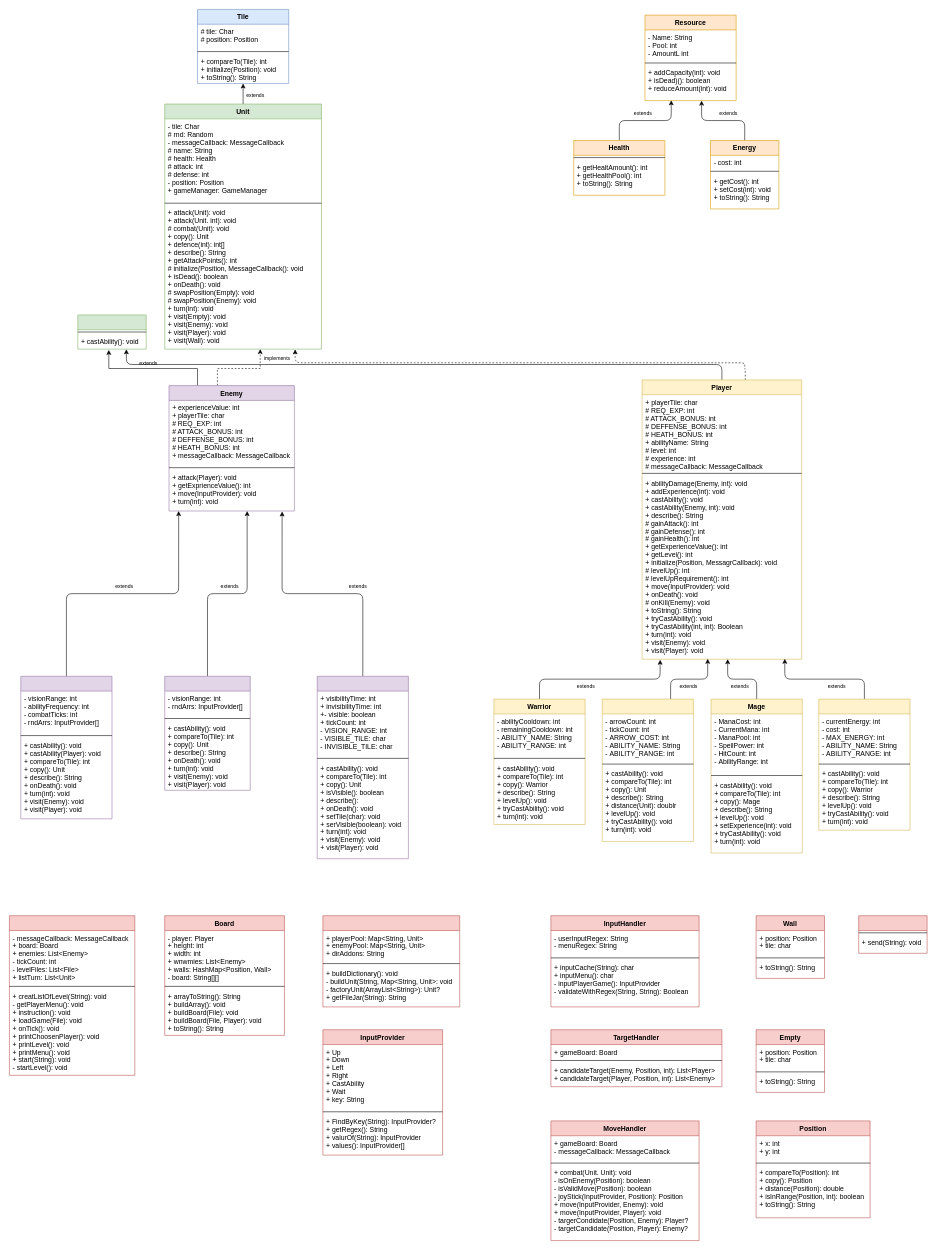
Image size: 937x1250. Some labels were removed from this diagram. The box of each missing label's shape, as (x1, y1, x2, y2) in pixels:
Boss: (20, 676, 112, 819)
DatabaseUnits: (322, 915, 460, 1007)
GameManager: (9, 915, 135, 1075)
HeroicUnit: (77, 314, 146, 349)
Hunter: (602, 699, 693, 842)
MessageCallback: (858, 915, 927, 953)
Monster: (164, 676, 250, 790)
Rouge: (818, 699, 910, 830)
Trap: (317, 676, 408, 859)
